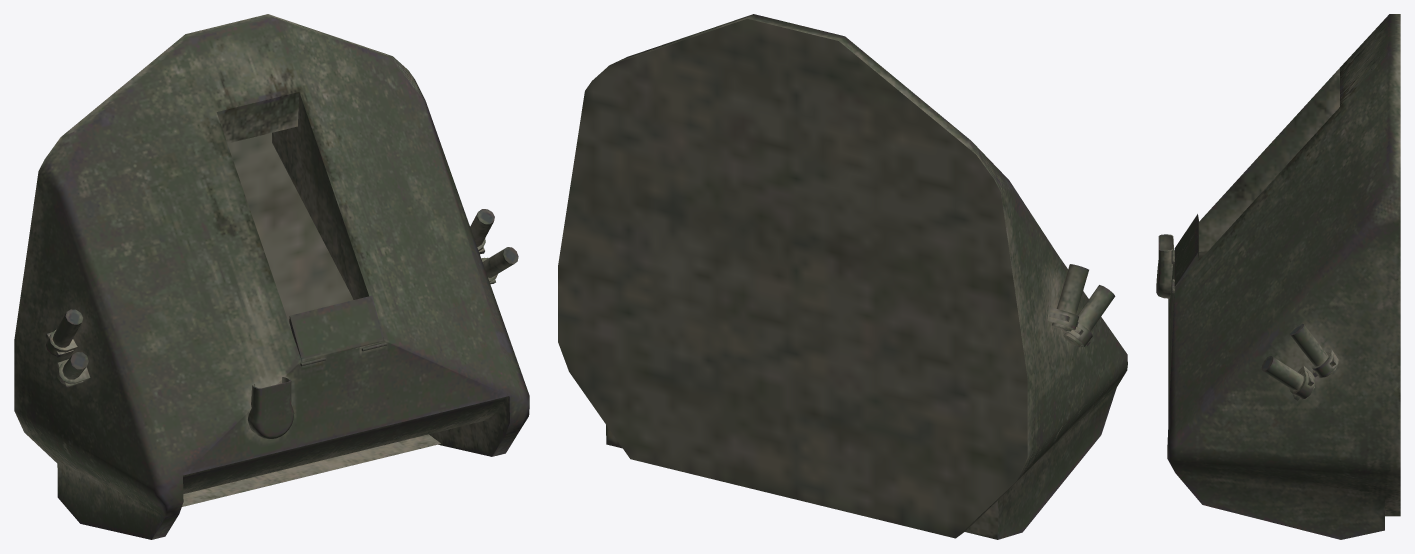
The model's file is Turret_01.glb.
The picture shows the model from 3 angles, left to right: view 1: azimuth 30°, elevation 25°; view 2: azimuth 150°, elevation 25°; view 3: azimuth 270°, elevation 25°; orthographic projection. The views are drawn at different scales.
Parts seen in each view (by area): view 1: set_0_group_0; view 2: set_0_group_0; view 3: set_0_group_0.
Boxes of the visible parts, <box> form: set_0_group_0: <box>14,14,529,539</box>; set_0_group_0: <box>558,14,1127,539</box>; set_0_group_0: <box>1156,14,1400,539</box>.
Size of the model in its own units: 2.42 by 2.25 by 1.18.
1 material, 1 textured.
